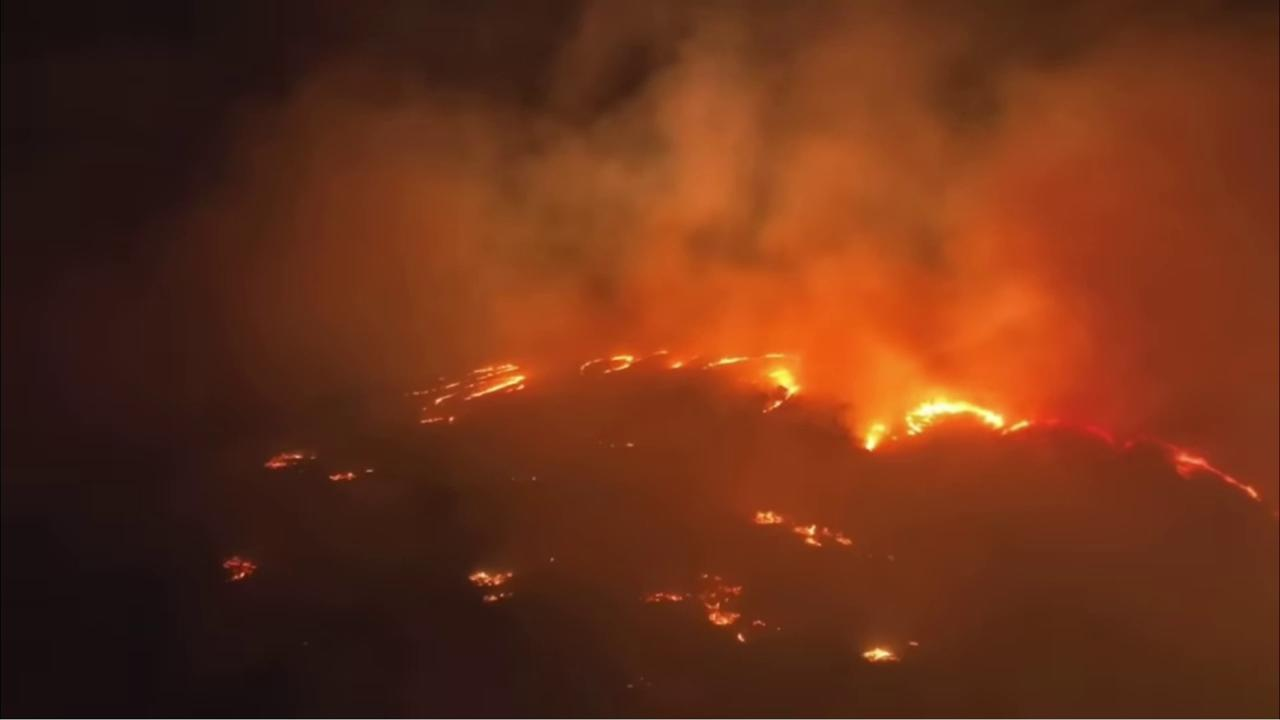fire: (858, 393, 1262, 504), (404, 360, 528, 427), (703, 344, 804, 415), (633, 570, 744, 627), (572, 341, 699, 377), (751, 508, 854, 550), (464, 568, 517, 610), (216, 549, 260, 586), (259, 448, 320, 473), (855, 641, 897, 667), (326, 467, 359, 487)
smoke: (26, 0, 1280, 720)
